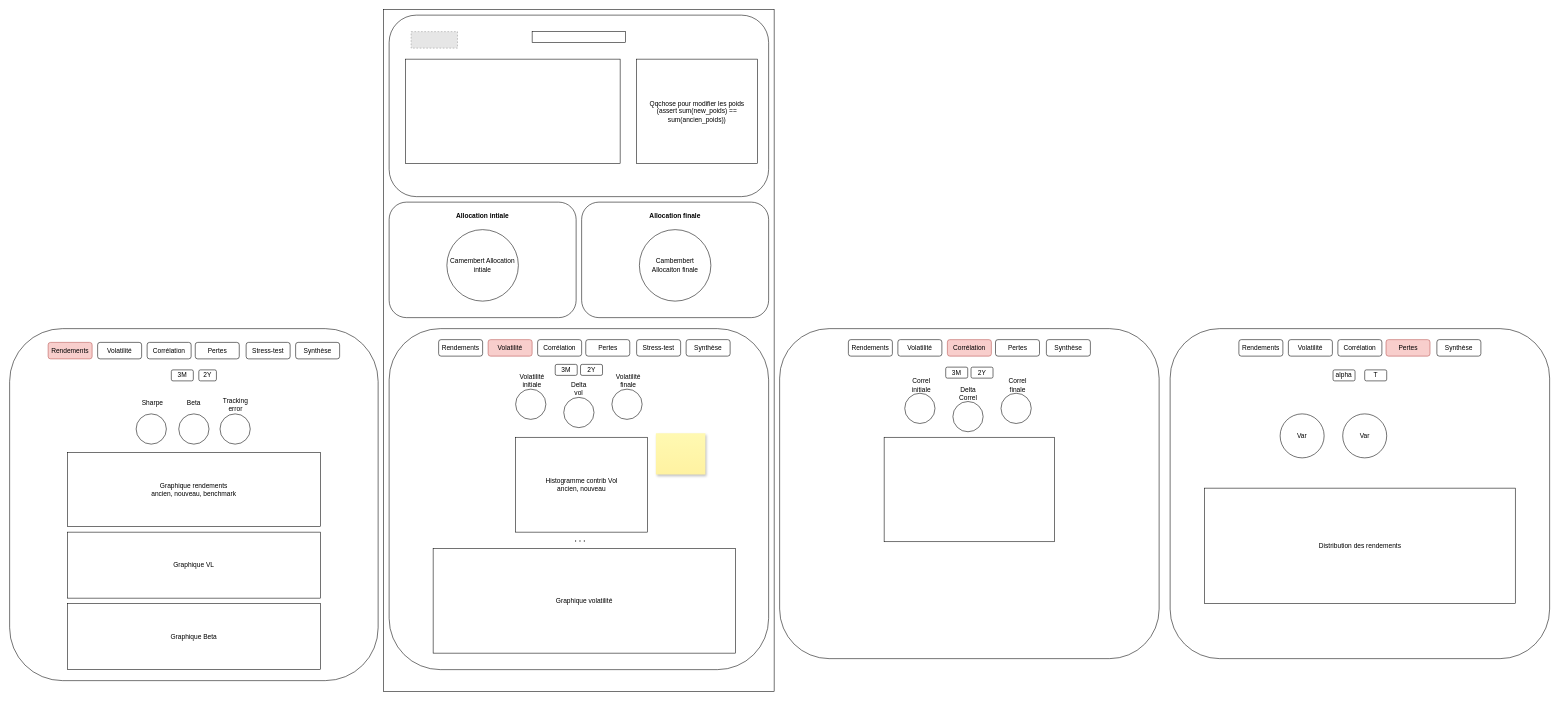
Image size: 1559x701. Some labels were removed from this diagram. Grey dashed boxes stand in for pictures. Here are the shapes that lost their labels. From the top down, the centre of each, then its label:
At (579,37): "Selectionner le fonds".
At (512,111): "Tableau id_inst, nm_inst, weight".
At (680,454): "Possibilité de changer de vue pour avoir une vue en tableau".
At (969,489): "Matrice de correlation".
